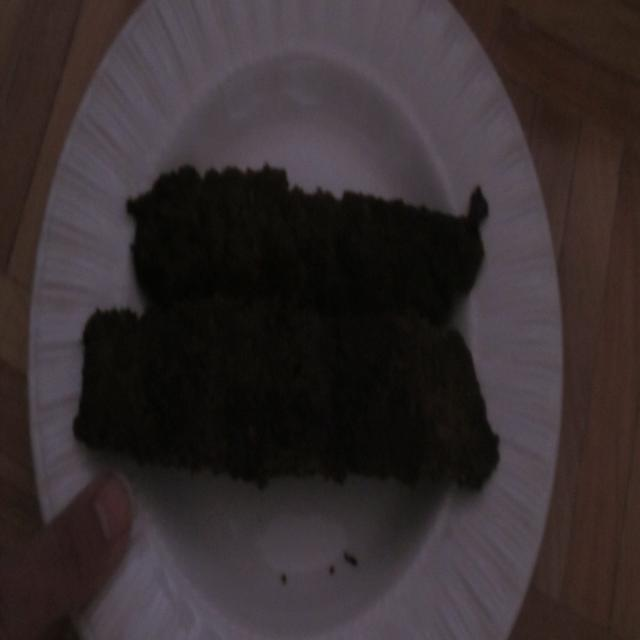cutlet: (100, 144, 516, 488)
